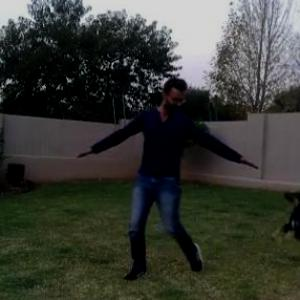land: (97, 84, 261, 265)
